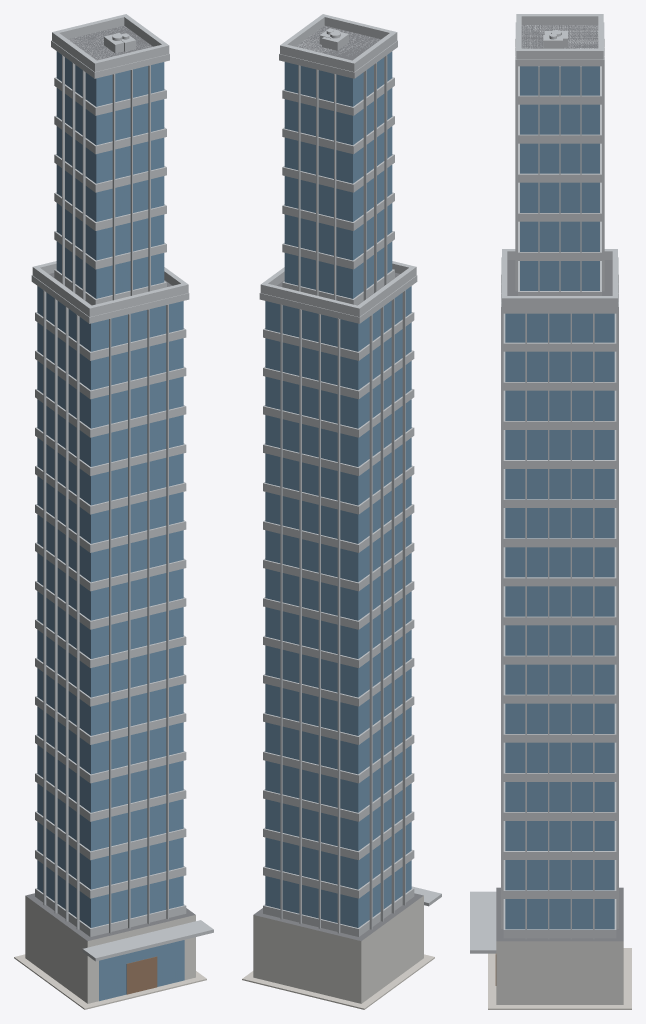
3 renders of one model, left to right at view 1: azimuth 30°, elevation 25°; view 2: azimuth 150°, elevation 25°; view 3: azimuth 270°, elevation 25°, orthographic.
Parts seen in each view (by area): view 1: c_3_1_c; view 2: c_3_1_c; view 3: c_3_1_c.
Part boxes in pixels (left/top/right/bottom): c_3_1_c: left=14, top=14, right=213, bottom=1009; c_3_1_c: left=242, top=14, right=441, bottom=1009; c_3_1_c: left=470, top=14, right=631, bottom=1009.
Size of the model in its own units: 12 by 87.48 by 13.5.
